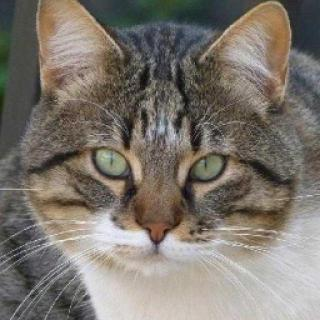cat: (23, 0, 301, 270)
nose: (134, 184, 184, 252)
